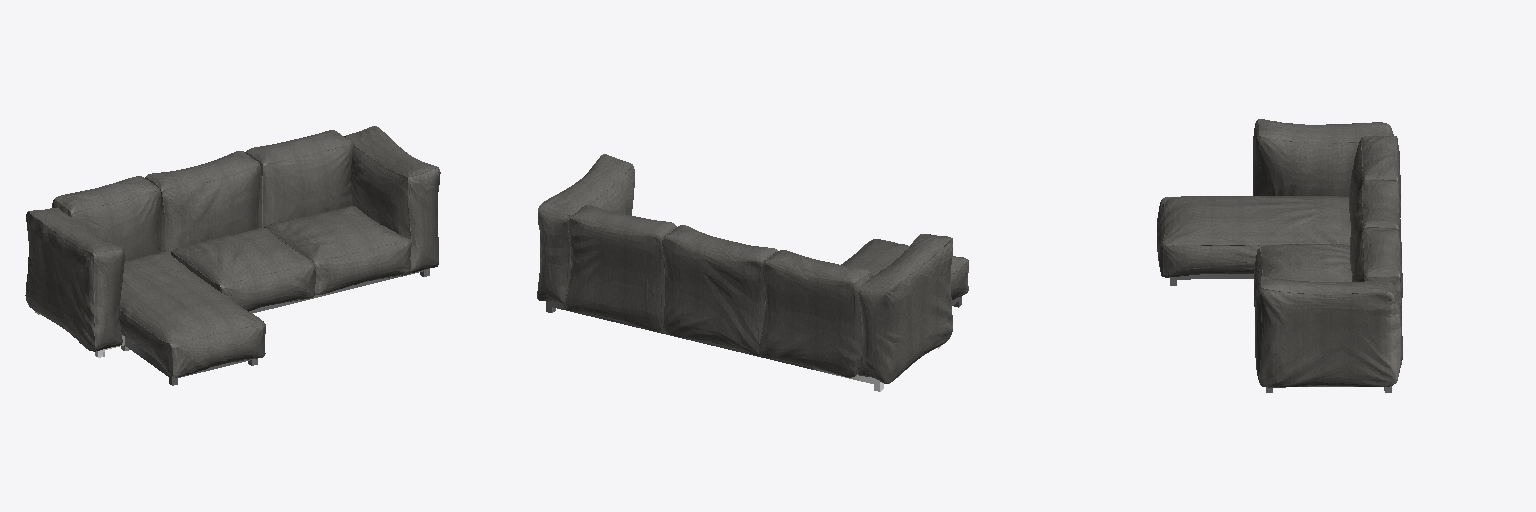
3 renders of one model, left to right at view 1: azimuth 30°, elevation 25°; view 2: azimuth 150°, elevation 25°; view 3: azimuth 270°, elevation 25°, orthographic.
Visible parts, largest first — view 1: solid_001, solid_002; view 2: solid_001, solid_002; view 3: solid_001, solid_002.
Boxes of the visible parts, <box> form: solid_001: <box>25,126,440,377</box>; solid_002: <box>35,269,429,385</box>; solid_001: <box>537,154,968,383</box>; solid_002: <box>546,296,961,391</box>; solid_001: <box>1157,119,1402,387</box>; solid_002: <box>1170,274,1391,392</box>.
Bounding box in the file's own units: 2 × 0.5978 × 1.2.
1 materials, 1 textured.